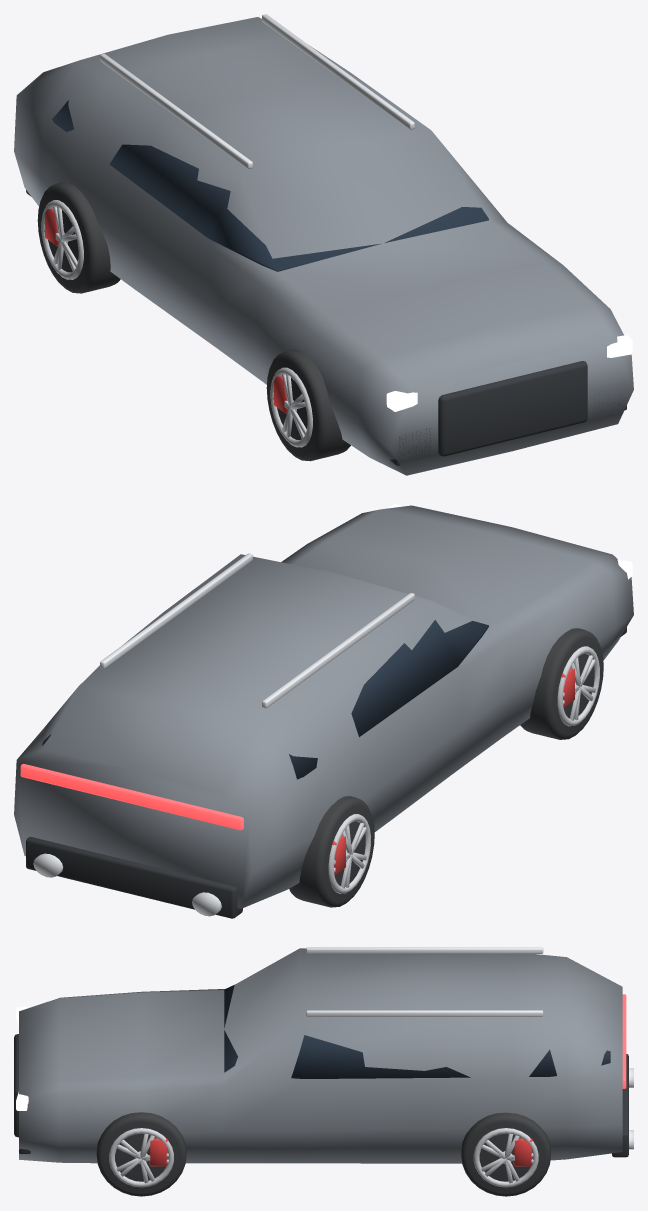
File: audi_rs6.glb
3 renders of one model, top to bottom at view 1: azimuth 30°, elevation 25°; view 2: azimuth 150°, elevation 25°; view 3: azimuth 270°, elevation 25°, orthographic. The views are drawn at different scales.
Parts seen in each view (by area): view 1: rs6_body, rs6_glass, rs6_grille, wheel_fl_tire, wheel_rl_tire, rs6_rail_0.7, rs6_rail_-0.7, wheel_fl_lip, wheel_rl_lip; view 2: rs6_body, rs6_glass, rs6_diffuser, wheel_rl_tire, wheel_fl_tire, rs6_tailbar, rs6_rail_0.7, rs6_rail_-0.7, wheel_rl_lip, wheel_fl_lip; view 3: rs6_body, rs6_glass, wheel_rr_tire, wheel_fr_tire, rs6_rail_0.7, rs6_rail_-0.7, wheel_rr_lip, wheel_fr_lip, rs6_diffuser, wheel_rr_caliper, wheel_fr_caliper, rs6_grille (+1 smaller).
Part boxes in pixels (x1,y1,x2,y2): rs6_body: (14, 17, 633, 475); rs6_glass: (52, 100, 488, 271); rs6_grille: (438, 361, 587, 456); wheel_fl_tire: (266, 349, 350, 461); wheel_rl_tire: (37, 182, 120, 293); rs6_rail_0.7: (262, 14, 414, 129); rs6_rail_-0.7: (100, 53, 252, 168); wheel_fl_lip: (270, 367, 312, 447); wheel_rl_lip: (41, 200, 83, 279); rs6_body: (14, 505, 633, 908); rs6_glass: (42, 620, 488, 779); rs6_diffuser: (26, 837, 242, 918); wheel_rl_tire: (289, 796, 374, 907); wheel_fl_tire: (520, 628, 603, 739); rs6_tailbar: (20, 764, 243, 830); rs6_rail_0.7: (100, 553, 252, 668); rs6_rail_-0.7: (262, 593, 414, 708); wheel_rl_lip: (328, 814, 370, 893); wheel_fl_lip: (557, 646, 599, 726); rs6_body: (19, 948, 622, 1163); rs6_glass: (224, 985, 610, 1078); wheel_rr_tire: (461, 1112, 550, 1196); wheel_fr_tire: (96, 1112, 186, 1196); rs6_rail_0.7: (306, 1010, 543, 1016); rs6_rail_-0.7: (306, 947, 543, 953); wheel_rr_lip: (473, 1128, 538, 1187); wheel_fr_lip: (109, 1128, 173, 1187); rs6_diffuser: (612, 1054, 628, 1157); wheel_rr_caliper: (513, 1138, 532, 1166); wheel_fr_caliper: (149, 1138, 168, 1166); rs6_grille: (14, 1034, 18, 1137).
Bounding box in the file's own units: 2.2 × 1.49 × 5.1.
